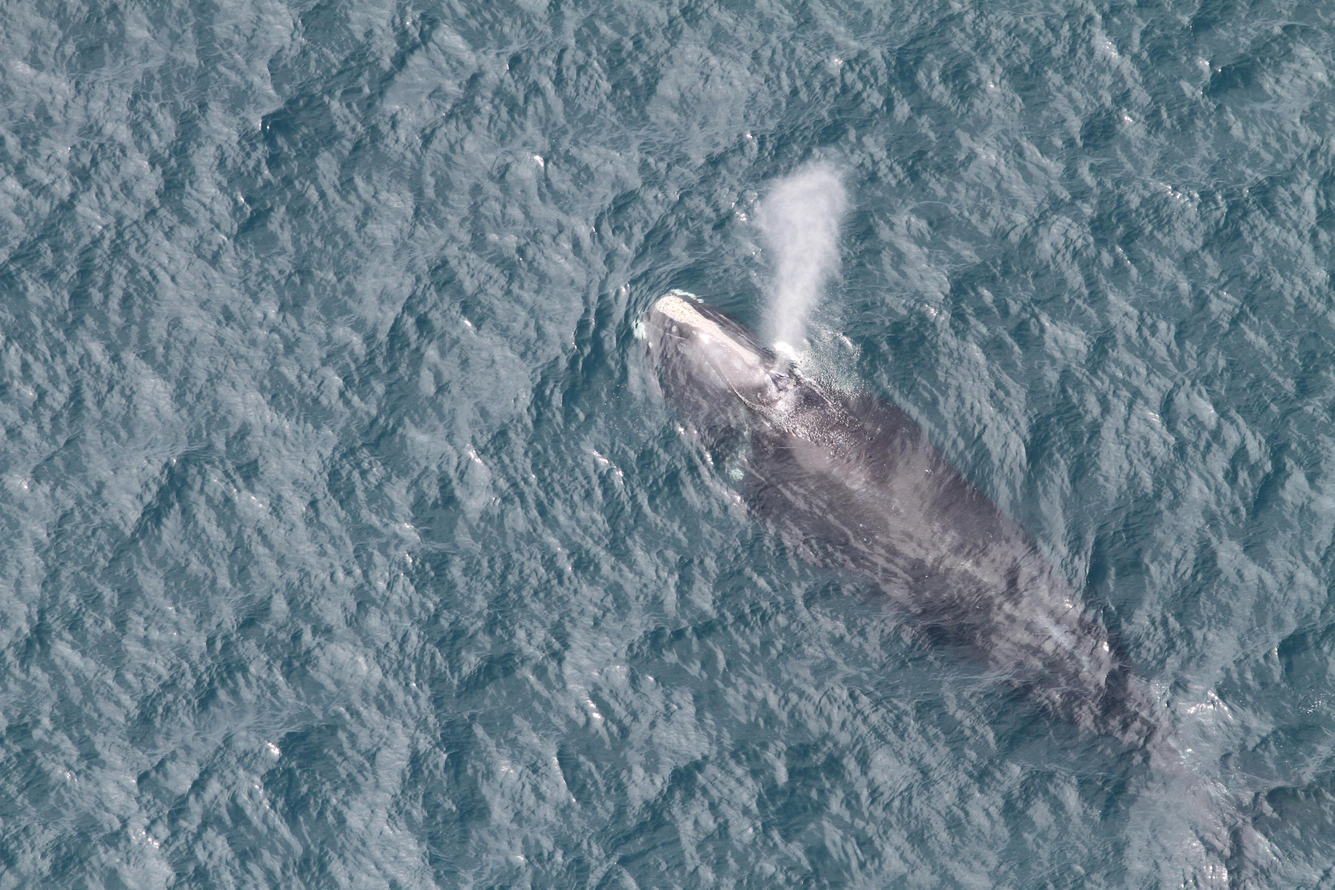whale: (628, 281, 1305, 861)
